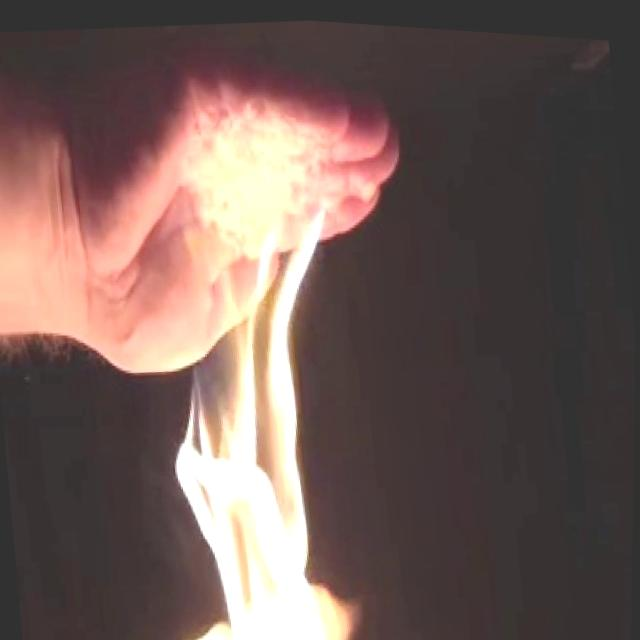helmet: (123, 157, 380, 640)
